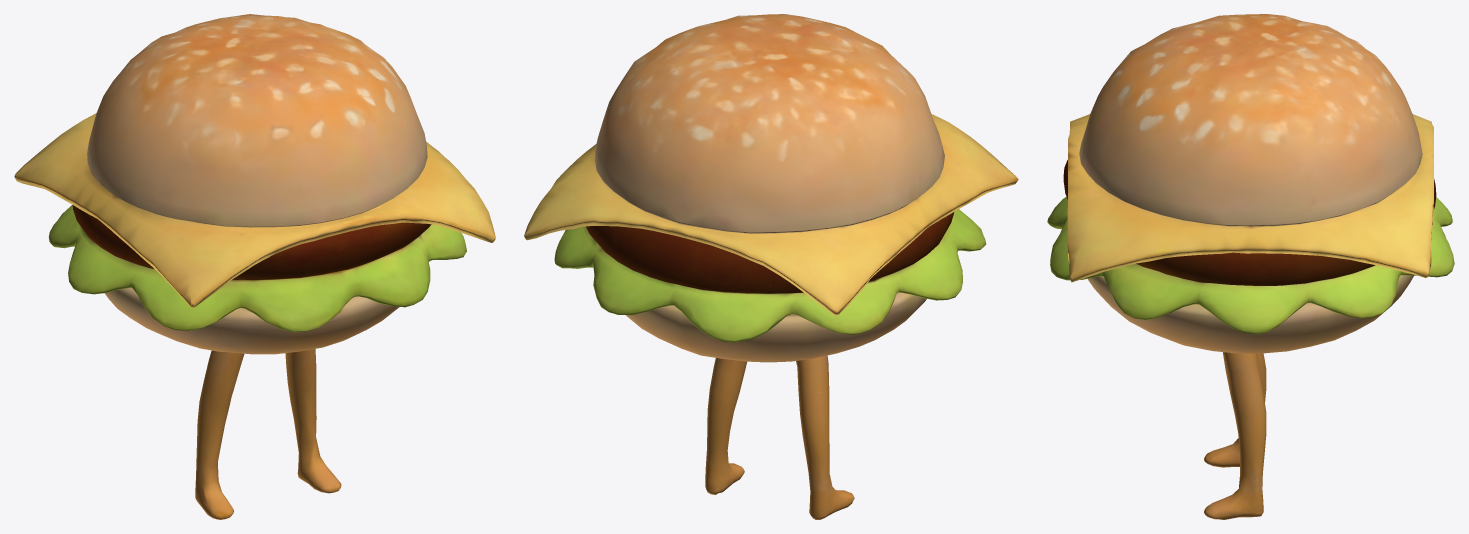
File: burger.glb
3 views of the same model, side by side, from view 1: azimuth 30°, elevation 25°; view 2: azimuth 150°, elevation 25°; view 3: azimuth 270°, elevation 25° (orthographic). The views are drawn at different scales.
Parts seen in each view (by area): view 1: geometry_0; view 2: geometry_0; view 3: geometry_0.
Boxes of the visible parts, left/top/right/bottom form: geometry_0: left=14, top=14, right=495, bottom=519; geometry_0: left=524, top=14, right=1018, bottom=519; geometry_0: left=1047, top=14, right=1454, bottom=519.
Size of the model in its own units: 0.8149 by 0.9497 by 0.7842.
1 material, 1 textured.
